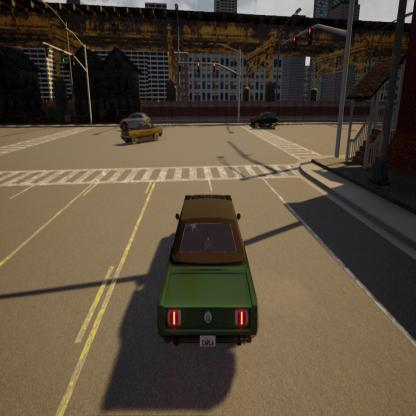Cars: (150, 174, 266, 364), (120, 119, 164, 148), (116, 108, 153, 134), (249, 109, 279, 134)
